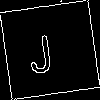J: (25, 25, 55, 75)
